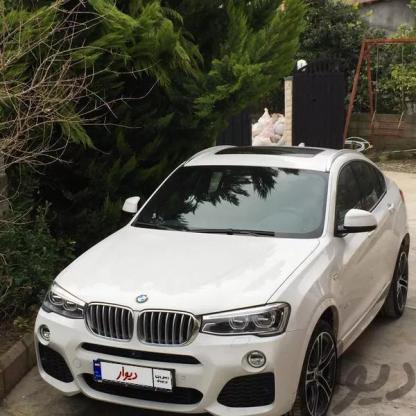Car: (33, 134, 415, 416)
